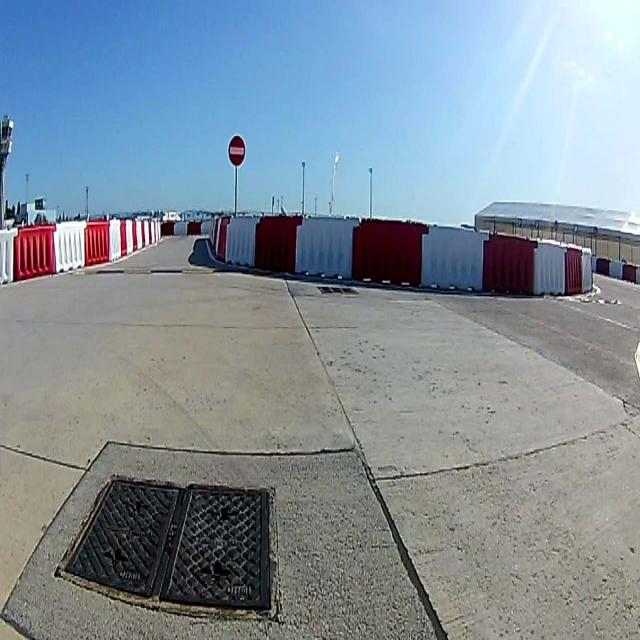girisyok: (228, 136, 246, 164)
